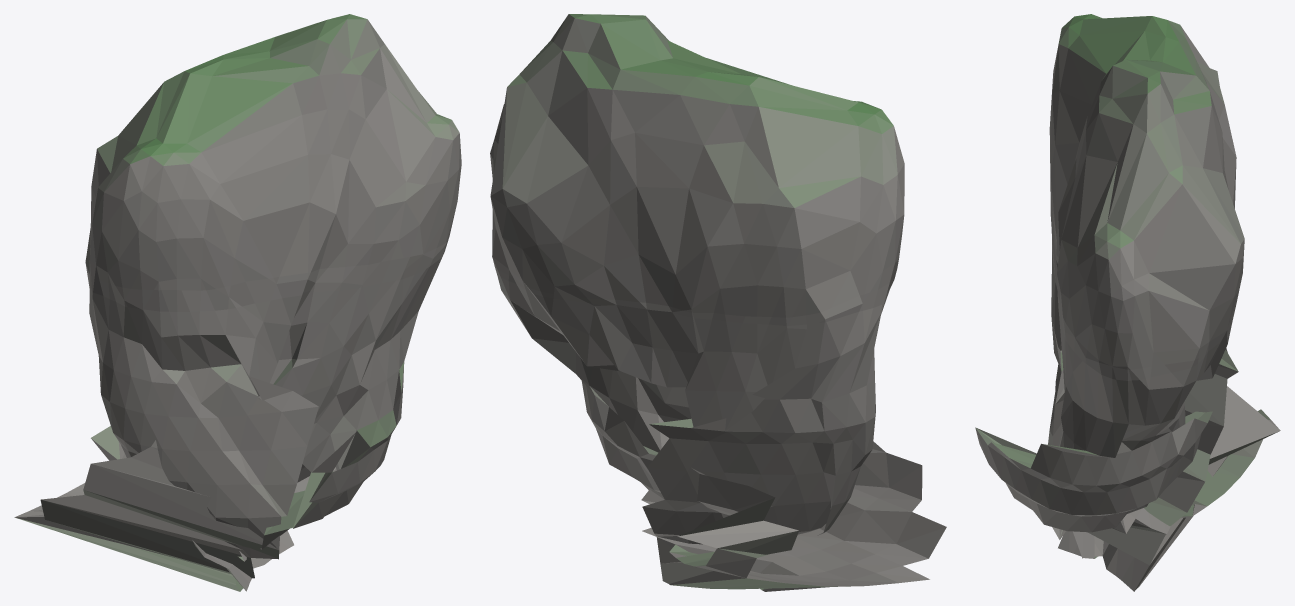
File: Stein_1.fbx
3 renders of one model, left to right at view 1: azimuth 30°, elevation 25°; view 2: azimuth 150°, elevation 25°; view 3: azimuth 270°, elevation 25°, orthographic. The views are drawn at different scales.
Visible parts, largest first — view 1: Stein_1; view 2: Stein_1; view 3: Stein_1.
Boxes of the visible parts, x1,y1,x2,y2 form: Stein_1: [14, 14, 461, 591]; Stein_1: [490, 14, 946, 591]; Stein_1: [975, 14, 1280, 591].
Bounding box in the file's own units: 0.5394 × 0.62 × 0.315.
